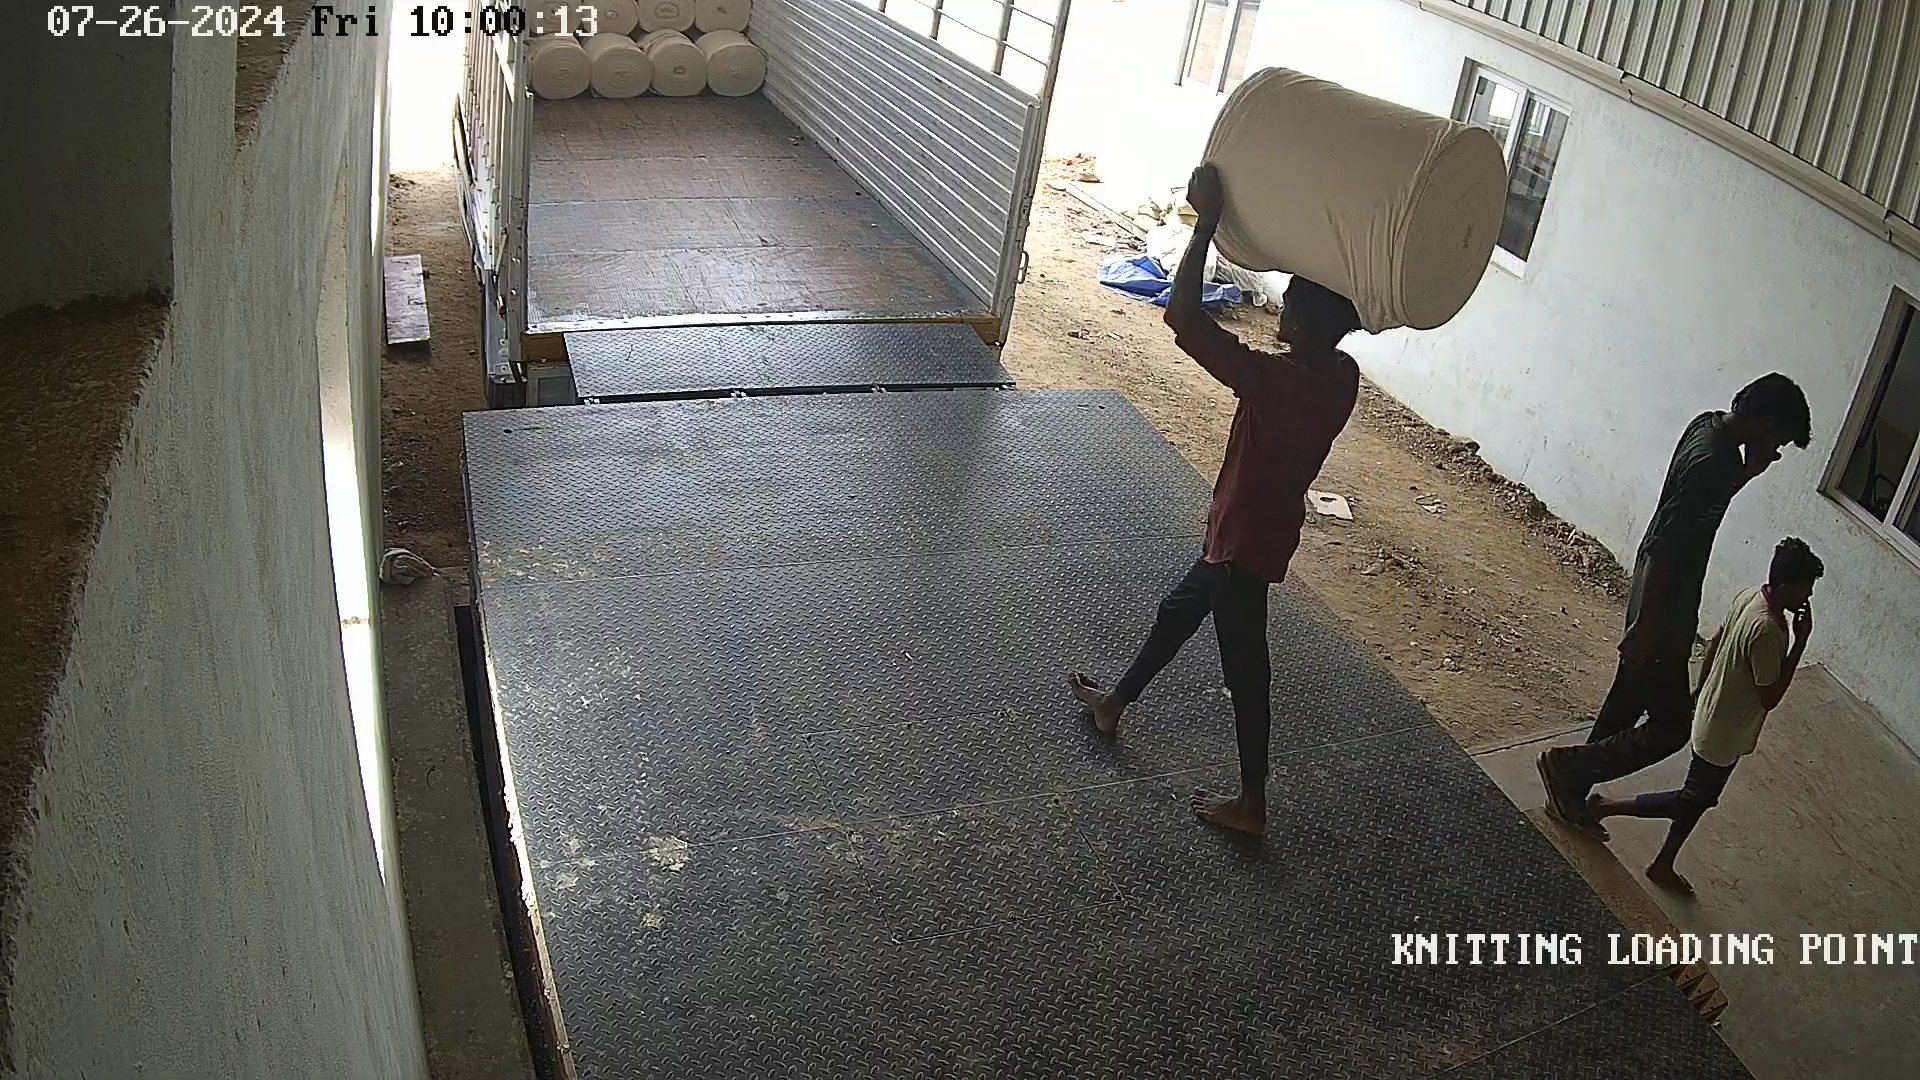bag: (1189, 49, 1516, 340)
